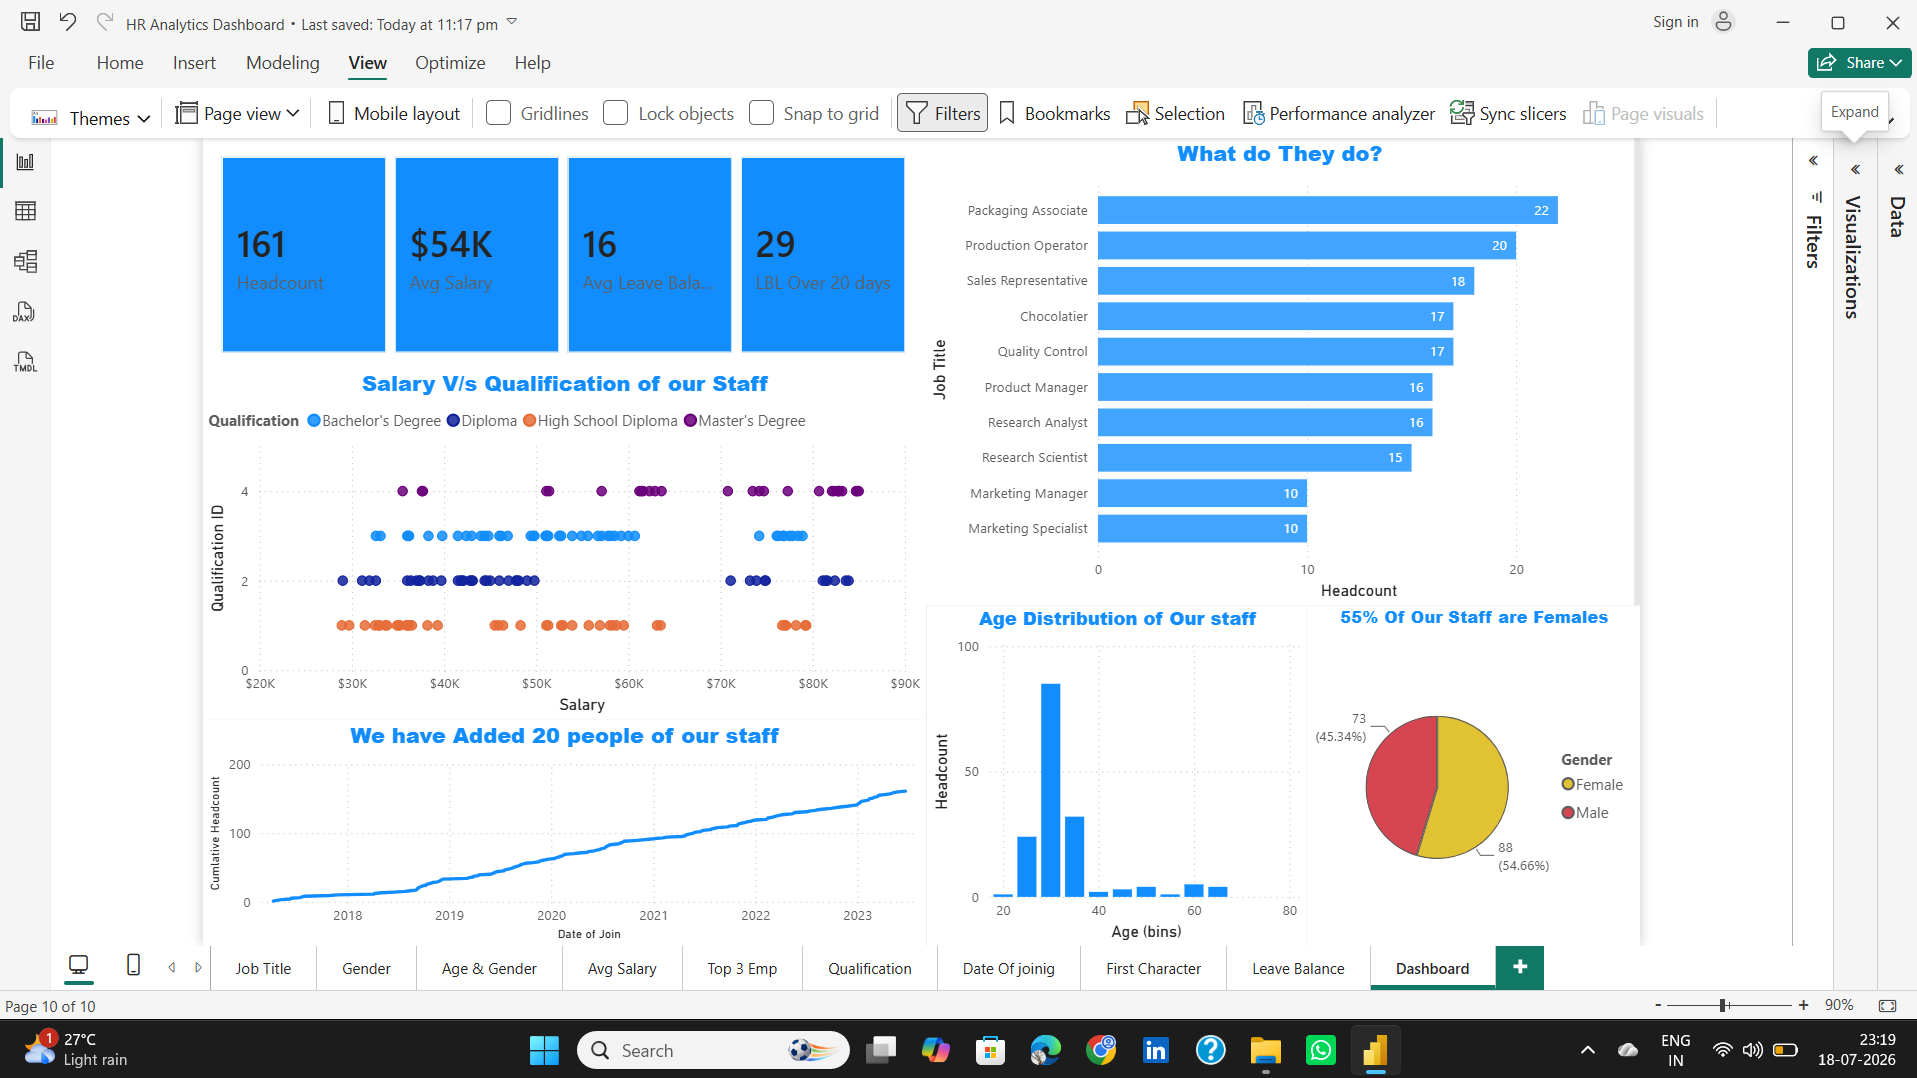

Layout of this report page (visuals, bound fields, positions):
{"tool":"powerbi","page":{"name":"Dashboard","canvas":[1280,720],"ordinal":9},"visuals":[{"type":"cardVisual","fields":{"Data":["data (2).Headcount","data (2).Avg Salary","data (2).Avg Leave Balance","data (2).LBL Over 20 days"]},"box":[0,0,644.2,208.1],"z":0},{"type":"clusteredBarChart","title":"What do They do?","fields":{"Category":["data (2).Job Title"],"Y":["data (2).Headcount"]},"box":[643.8,0,631.2,416.2],"z":1},{"type":"pieChart","title":"55% Of Our Staff are Females","fields":{"Category":["data (2).Gender"],"Y":["data (2).Headcount"]},"box":[983.7,416.3,296.5,303.5],"z":2},{"type":"columnChart","title":"Age Distribution of Our staff","fields":{"Category":["data (2).Age (bins)"],"Y":["data (2).Headcount"]},"box":[644.2,416.3,339.5,303.5],"z":3},{"type":"scatterChart","title":"Salary V/s Qualification of our Staff ","fields":{"Series":["Education Qualification.Qualification"],"X":["data (2).Salary"],"Y":["Education Qualification.Qualification ID "]},"box":[0,204.7,644.2,312.8],"z":4},{"type":"lineChart","title":"We have Added 20 people of our staff","fields":{"Category":["data (2).Date of Join"],"Y":["data (2).Cumlative Headcount"]},"box":[0,517.5,643.8,202.5],"z":5}]}

Visuals, with their boxes on the page's 1280x720 design canvas (x1, y1, x2, y2). These are canvas units, not pixel positions in the 1917x1078 screenshot, which may show the page scaled, cropped or inside an application window:
cardVisual - data (2).Headcount x data (2).Avg Salary: bbox=[0, 0, 644, 208]
"What do They do?" clusteredBarChart: bbox=[644, 0, 1275, 416]
"55% Of Our Staff are Females" pieChart: bbox=[984, 416, 1280, 720]
"Age Distribution of Our staff" columnChart: bbox=[644, 416, 984, 720]
"Salary V/s Qualification of our Staff " scatterChart: bbox=[0, 205, 644, 518]
"We have Added 20 people of our staff" lineChart: bbox=[0, 518, 644, 720]
